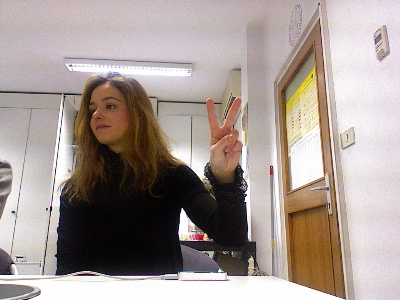剪刀: (204, 96, 243, 179)
